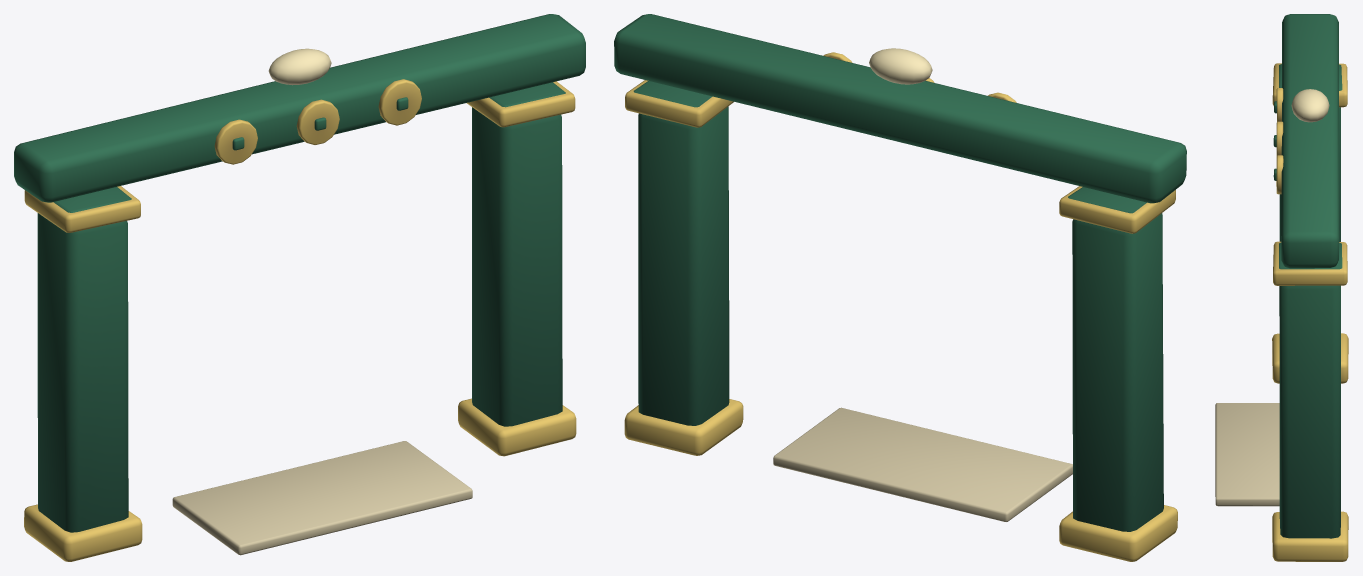
The picture shows the model from 3 angles, left to right: view 1: azimuth 30°, elevation 25°; view 2: azimuth 150°, elevation 25°; view 3: azimuth 270°, elevation 25°; orthographic projection. The views are drawn at different scales.
Visible parts, largest first — view 1: gate_41c1d894; view 2: gate_41c1d894; view 3: gate_41c1d894.
Part boxes in pixels (<box>): gate_41c1d894: <box>14,14,585,561</box>; gate_41c1d894: <box>614,14,1186,561</box>; gate_41c1d894: <box>1215,14,1348,561</box>.
Size of the model in its own units: 5.6 by 4.25 by 1.4.
